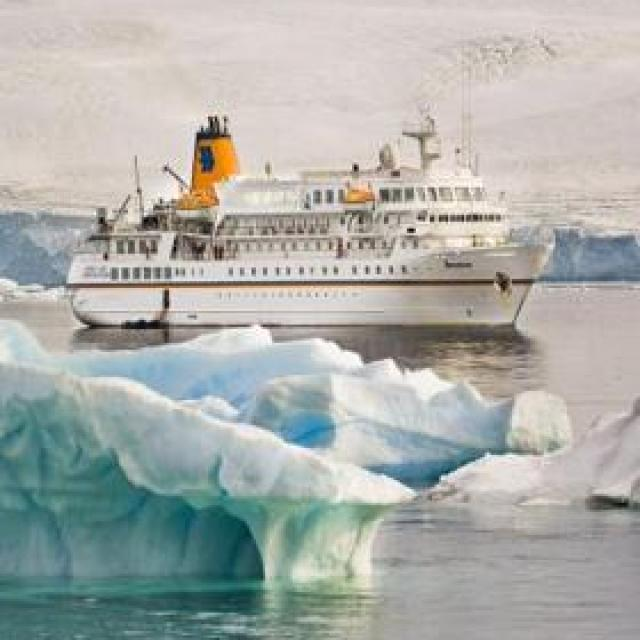passenger ship: (66, 113, 544, 325)
